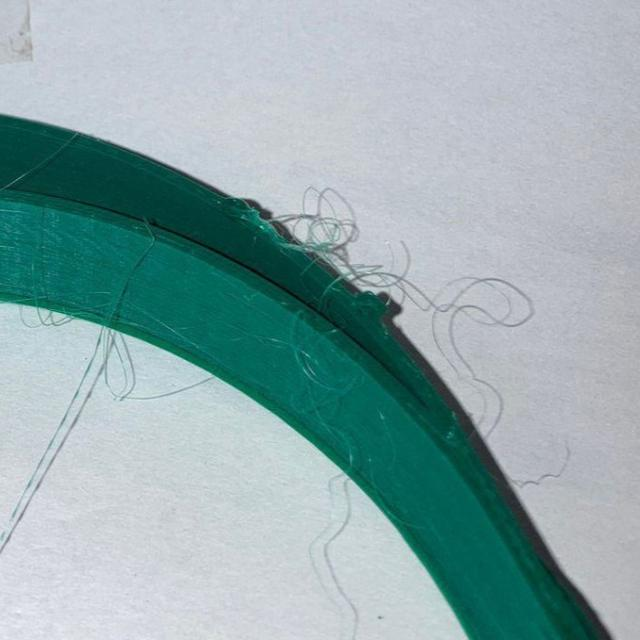stringing: (28, 281, 135, 437), (273, 188, 421, 300)
